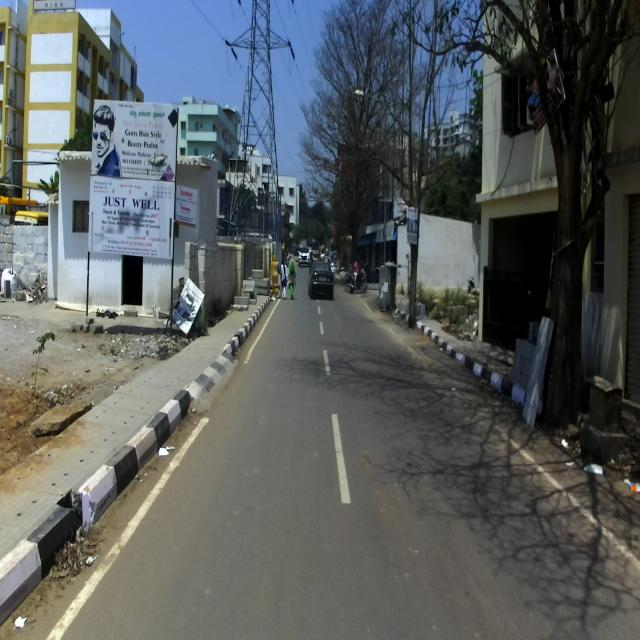tree ahead at: (539, 68, 598, 432)
